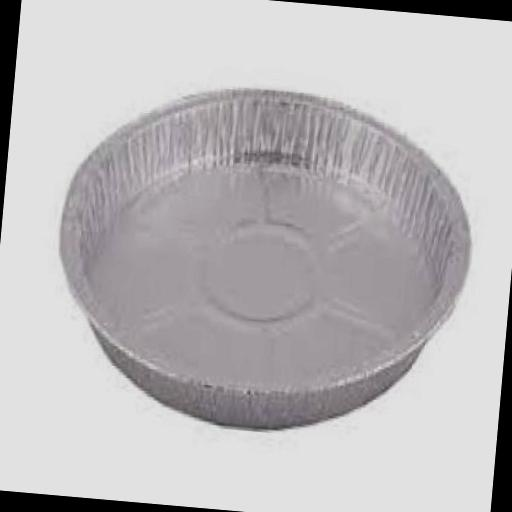metal: (45, 67, 484, 448)
